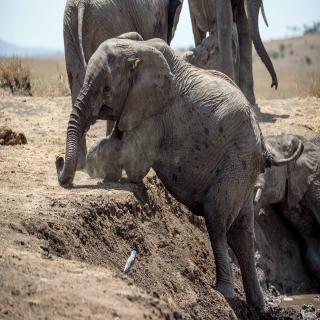Elephant: (55, 30, 277, 320)
